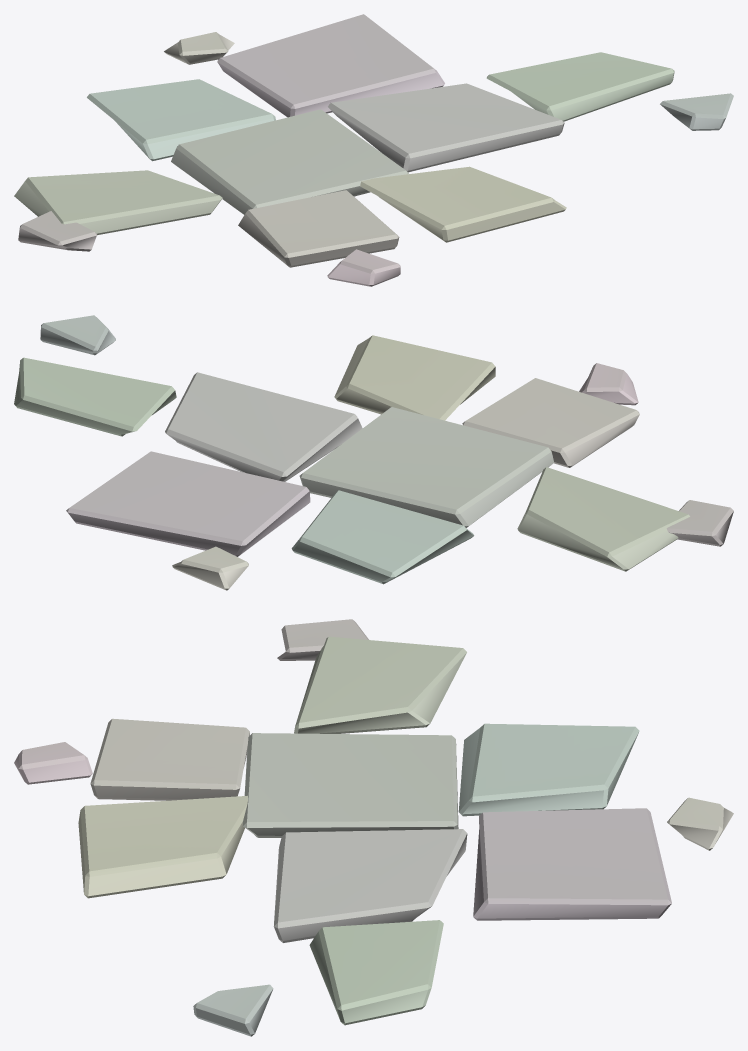
File: pavimento.glb
The picture shows the model from 3 angles, top to bottom: view 1: azimuth 30°, elevation 25°; view 2: azimuth 150°, elevation 25°; view 3: azimuth 270°, elevation 25°; orthographic projection. The views are drawn at different scales.
Parts seen in each view (by area): view 1: Piedra_02_eje_oeste, Piedra_06_hilada_fondo_este, Piedra_03_eje_este_corte, Piedra_01_punta_oeste_corte, Piedra_08_hilada_frente_este_corte, Piedra_05_hilada_fondo_oeste_corte, Piedra_07_hilada_frente_oeste, Piedra_04_punta_este_corte, Piedra_09_astilla_oeste, Piedra_10_astilla_este, Piedra_12_astilla_frente, Piedra_11_astilla_fondo; view 2: Piedra_02_eje_oeste, Piedra_06_hilada_fondo_este, Piedra_03_eje_este_corte, Piedra_01_punta_oeste_corte, Piedra_05_hilada_fondo_oeste_corte, Piedra_08_hilada_frente_este_corte, Piedra_07_hilada_frente_oeste, Piedra_04_punta_este_corte, Piedra_09_astilla_oeste, Piedra_10_astilla_este, Piedra_11_astilla_fondo, Piedra_12_astilla_frente; view 3: Piedra_02_eje_oeste, Piedra_06_hilada_fondo_este, Piedra_03_eje_este_corte, Piedra_05_hilada_fondo_oeste_corte, Piedra_08_hilada_frente_este_corte, Piedra_01_punta_oeste_corte, Piedra_07_hilada_frente_oeste, Piedra_04_punta_este_corte, Piedra_10_astilla_este, Piedra_12_astilla_frente, Piedra_09_astilla_oeste, Piedra_11_astilla_fondo.
Boxes of the visible parts, left/top/right/bottom form: Piedra_02_eje_oeste: left=171, top=109, right=408, bottom=214; Piedra_06_hilada_fondo_este: left=217, top=14, right=444, bottom=117; Piedra_03_eje_este_corte: left=328, top=83, right=564, bottom=172; Piedra_01_punta_oeste_corte: left=14, top=170, right=222, bottom=235; Piedra_08_hilada_frente_este_corte: left=360, top=166, right=566, bottom=242; Piedra_05_hilada_fondo_oeste_corte: left=87, top=79, right=275, bottom=161; Piedra_07_hilada_frente_oeste: left=238, top=190, right=399, bottom=267; Piedra_04_punta_este_corte: left=486, top=52, right=674, bottom=121; Piedra_09_astilla_oeste: left=18, top=211, right=96, bottom=251; Piedra_10_astilla_este: left=660, top=93, right=733, bottom=130; Piedra_12_astilla_frente: left=327, top=249, right=400, bottom=286; Piedra_11_astilla_fondo: left=164, top=32, right=234, bottom=64; Piedra_02_eje_oeste: left=299, top=407, right=554, bottom=527; Piedra_06_hilada_fondo_este: left=66, top=451, right=310, bottom=556; Piedra_03_eje_este_corte: left=165, top=372, right=362, bottom=481; Piedra_01_punta_oeste_corte: left=517, top=467, right=689, bottom=571; Piedra_05_hilada_fondo_oeste_corte: left=291, top=490, right=474, bottom=584; Piedra_08_hilada_frente_este_corte: left=334, top=335, right=495, bottom=420; Piedra_07_hilada_frente_oeste: left=462, top=378, right=639, bottom=467; Piedra_04_punta_este_corte: left=14, top=357, right=176, bottom=436; Piedra_09_astilla_oeste: left=666, top=500, right=733, bottom=546; Piedra_10_astilla_este: left=40, top=315, right=115, bottom=355; Piedra_11_astilla_fondo: left=172, top=546, right=248, bottom=590; Piedra_12_astilla_frente: left=579, top=363, right=638, bottom=405; Piedra_02_eje_oeste: left=243, top=733, right=458, bottom=837; Piedra_06_hilada_fondo_este: left=473, top=808, right=671, bottom=920; Piedra_03_eje_este_corte: left=273, top=829, right=467, bottom=942; Piedra_05_hilada_fondo_oeste_corte: left=458, top=723, right=639, bottom=816; Piedra_08_hilada_frente_este_corte: left=78, top=795, right=247, bottom=898; Piedra_01_punta_oeste_corte: left=294, top=636, right=466, bottom=733; Piedra_07_hilada_frente_oeste: left=90, top=718, right=249, bottom=800; Piedra_04_punta_este_corte: left=309, top=920, right=443, bottom=1025; Piedra_10_astilla_este: left=193, top=984, right=273, bottom=1036; Piedra_12_astilla_frente: left=14, top=742, right=92, bottom=784; Piedra_09_astilla_oeste: left=277, top=619, right=368, bottom=660; Piedra_11_astilla_fondo: left=667, top=797, right=733, bottom=850.
Size of the model in its own units: 2.4 by 0.06 by 1.8.
